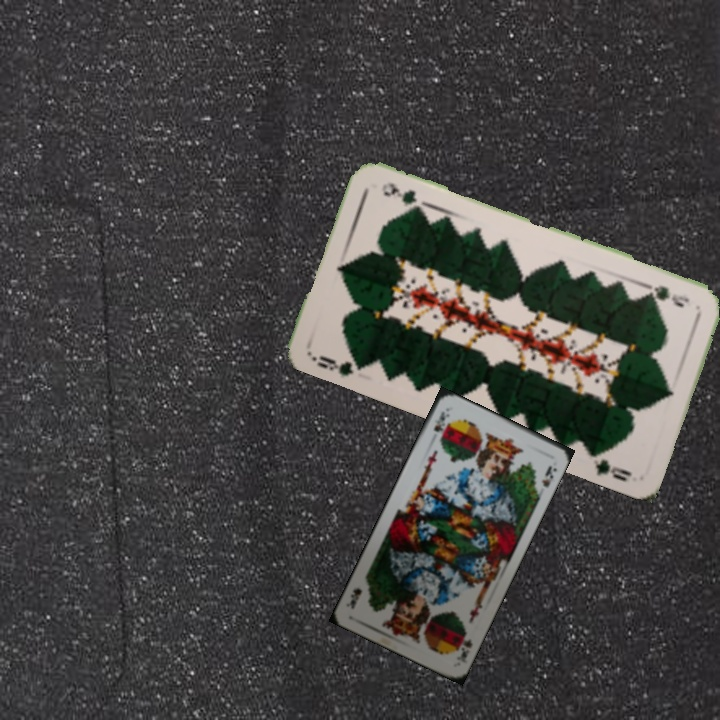G9: (307, 351, 368, 379), (645, 281, 692, 309)
SK: (452, 627, 475, 661), (429, 407, 452, 435)
